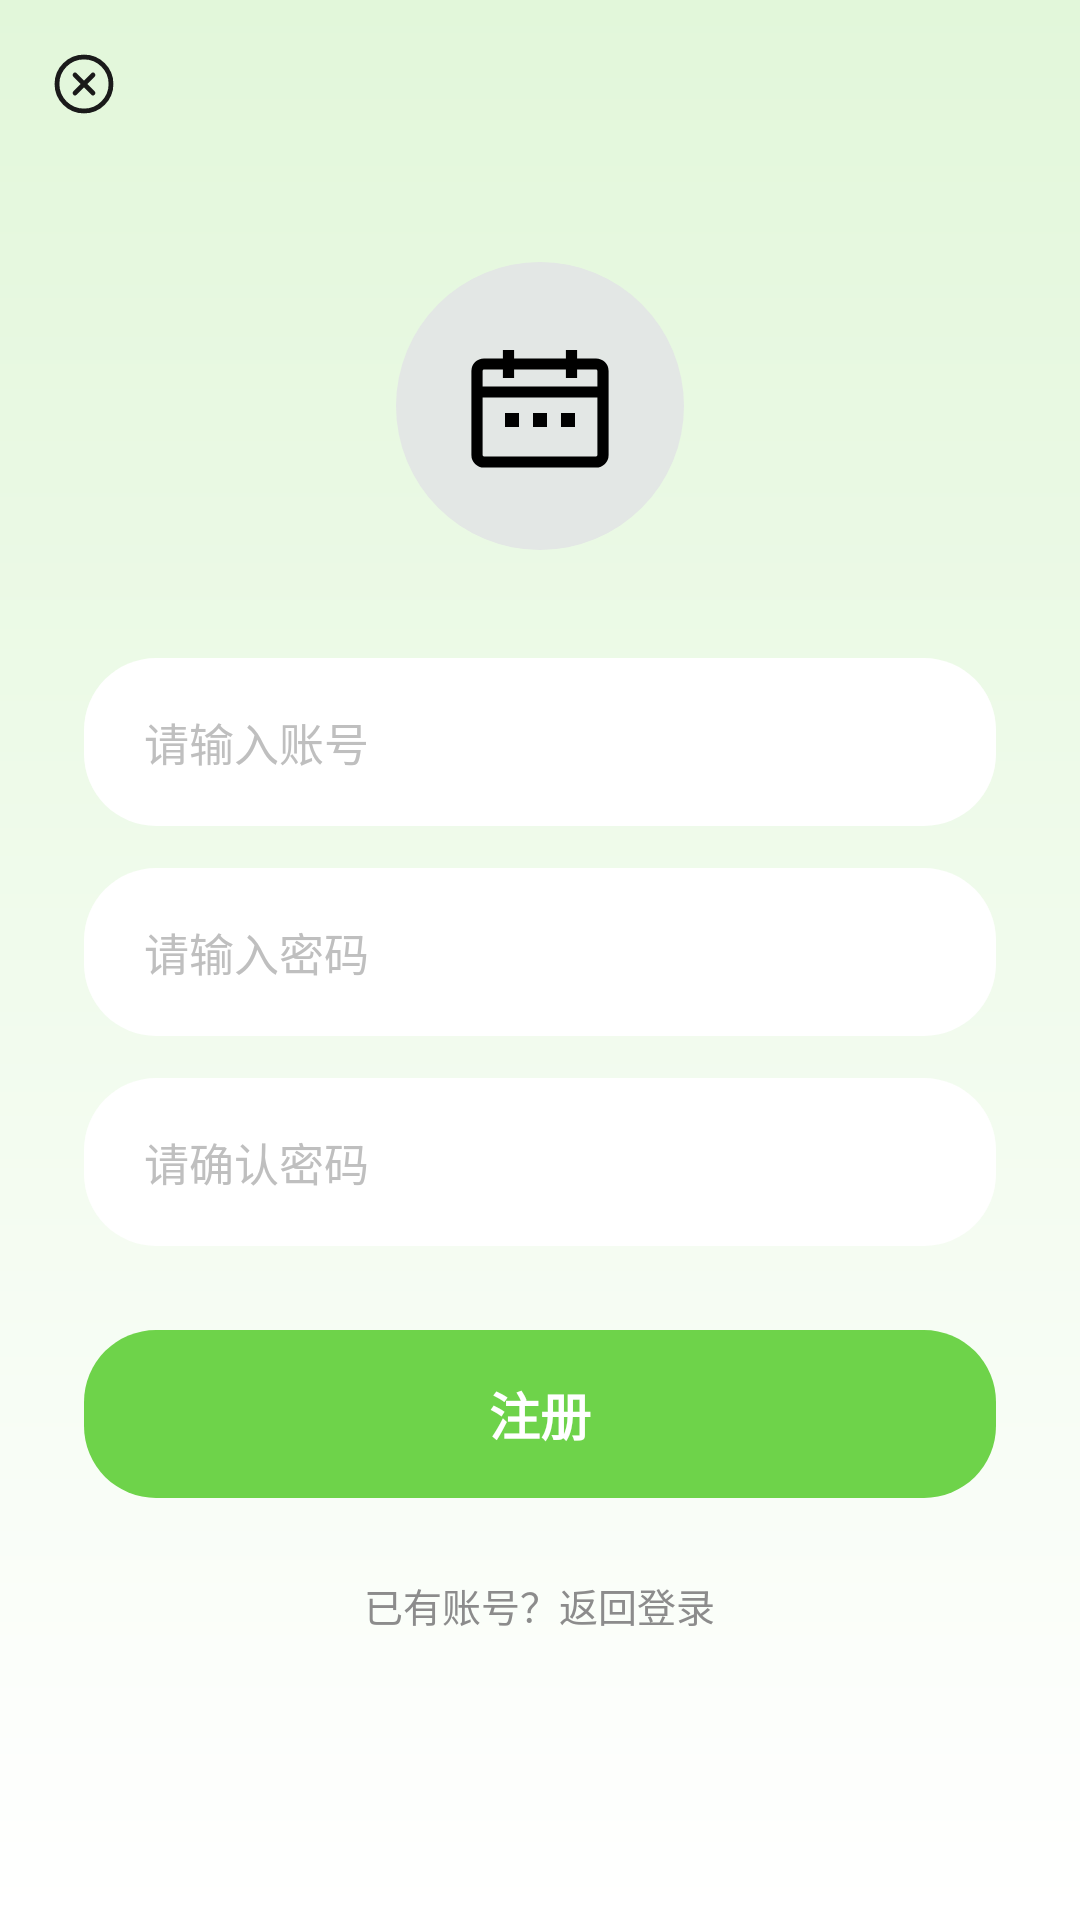

Icons on this 1080w x 1920h Android screen, each with the point to tap as (x,y):
calendar: (540,406)
关闭: (84,84)
